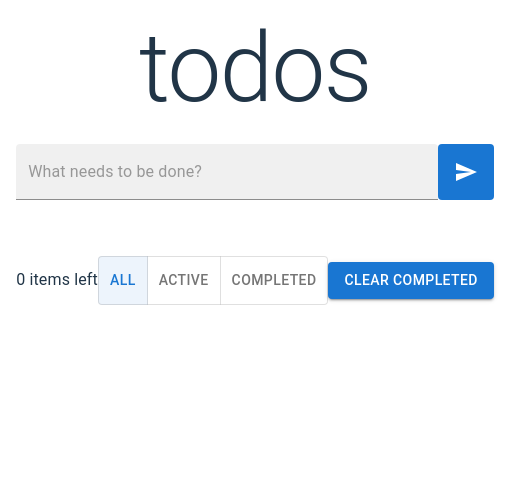
Scenario: Add todos is ok › should increase count when add item
The image size is (512, 481).
Type "do todo" into the field with placeholder "What needs to be done?" at [227, 172], box [16, 144, 438, 200]
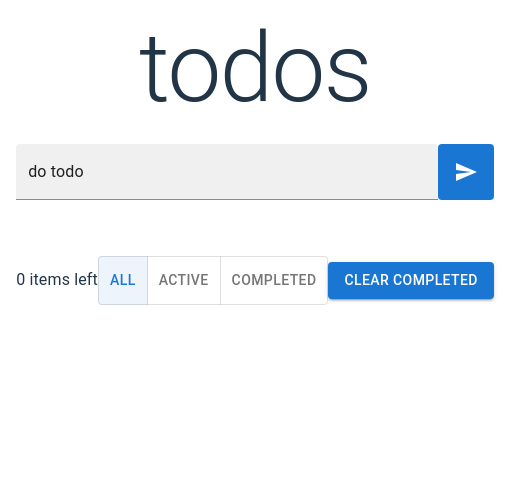
Click the button with test id "button-add" at [466, 172], box [438, 144, 494, 200]
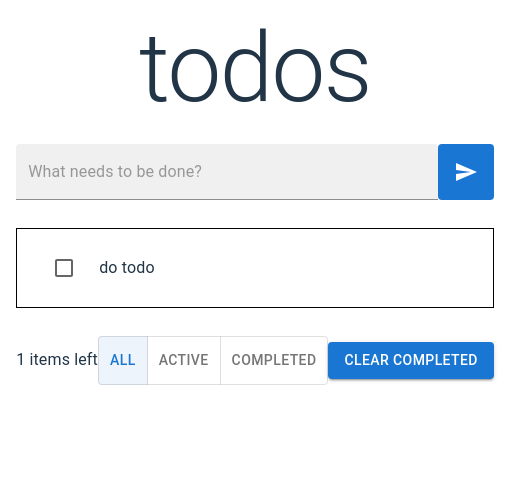
Type "todo do" into the field with placeholder "What needs to be done?" at [227, 172], box [16, 144, 438, 200]
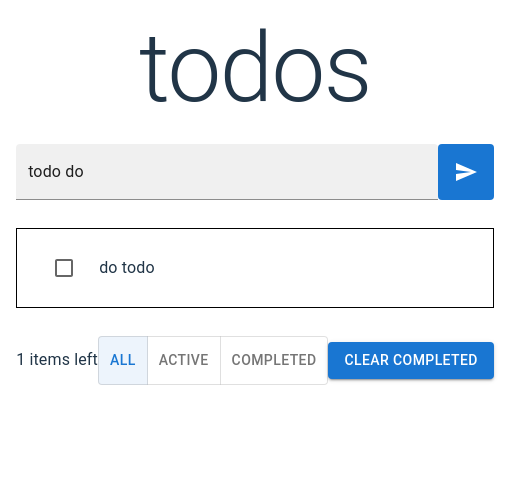
Click the button with test id "button-add" at [466, 172], box [438, 144, 494, 200]
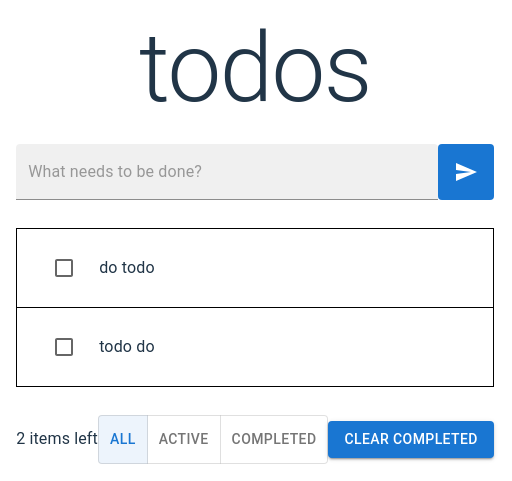
Now the heading with test id "count" reads "2 items left", box [16, 425, 98, 453]
